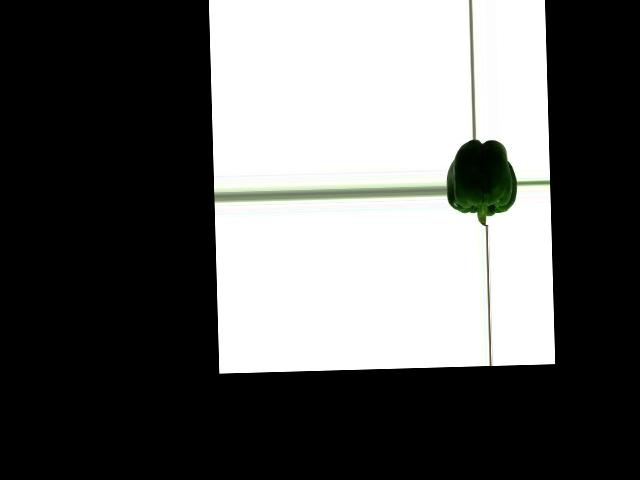bell_pepper: (447, 138, 517, 225)
